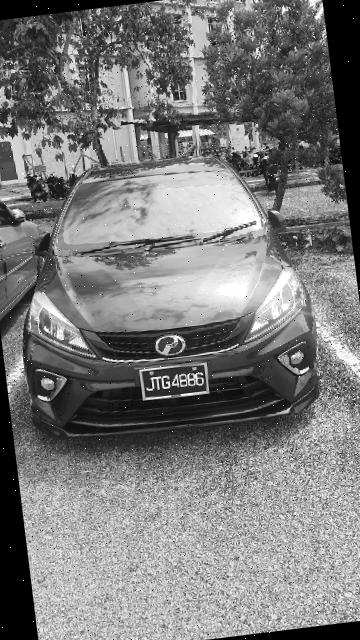License_Plate: (139, 354, 213, 406)
car: (1, 137, 333, 451)
